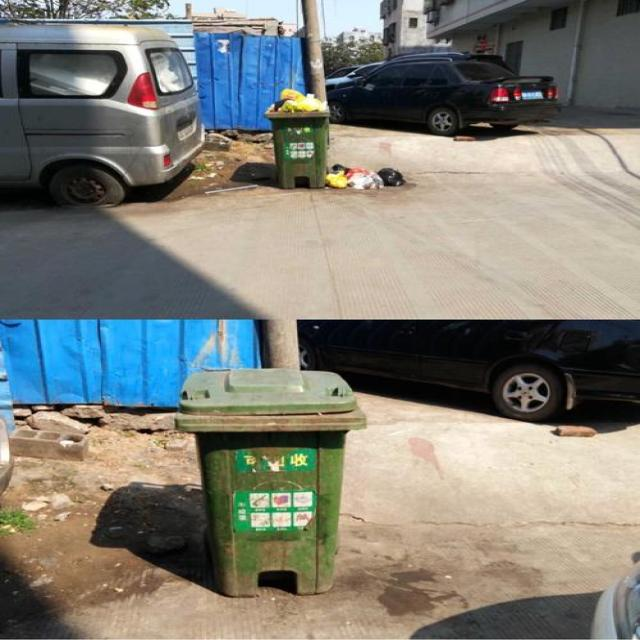garbage: (324, 162, 407, 188)
garbage_bin: (175, 368, 366, 596)
overflow: (262, 88, 329, 188)
